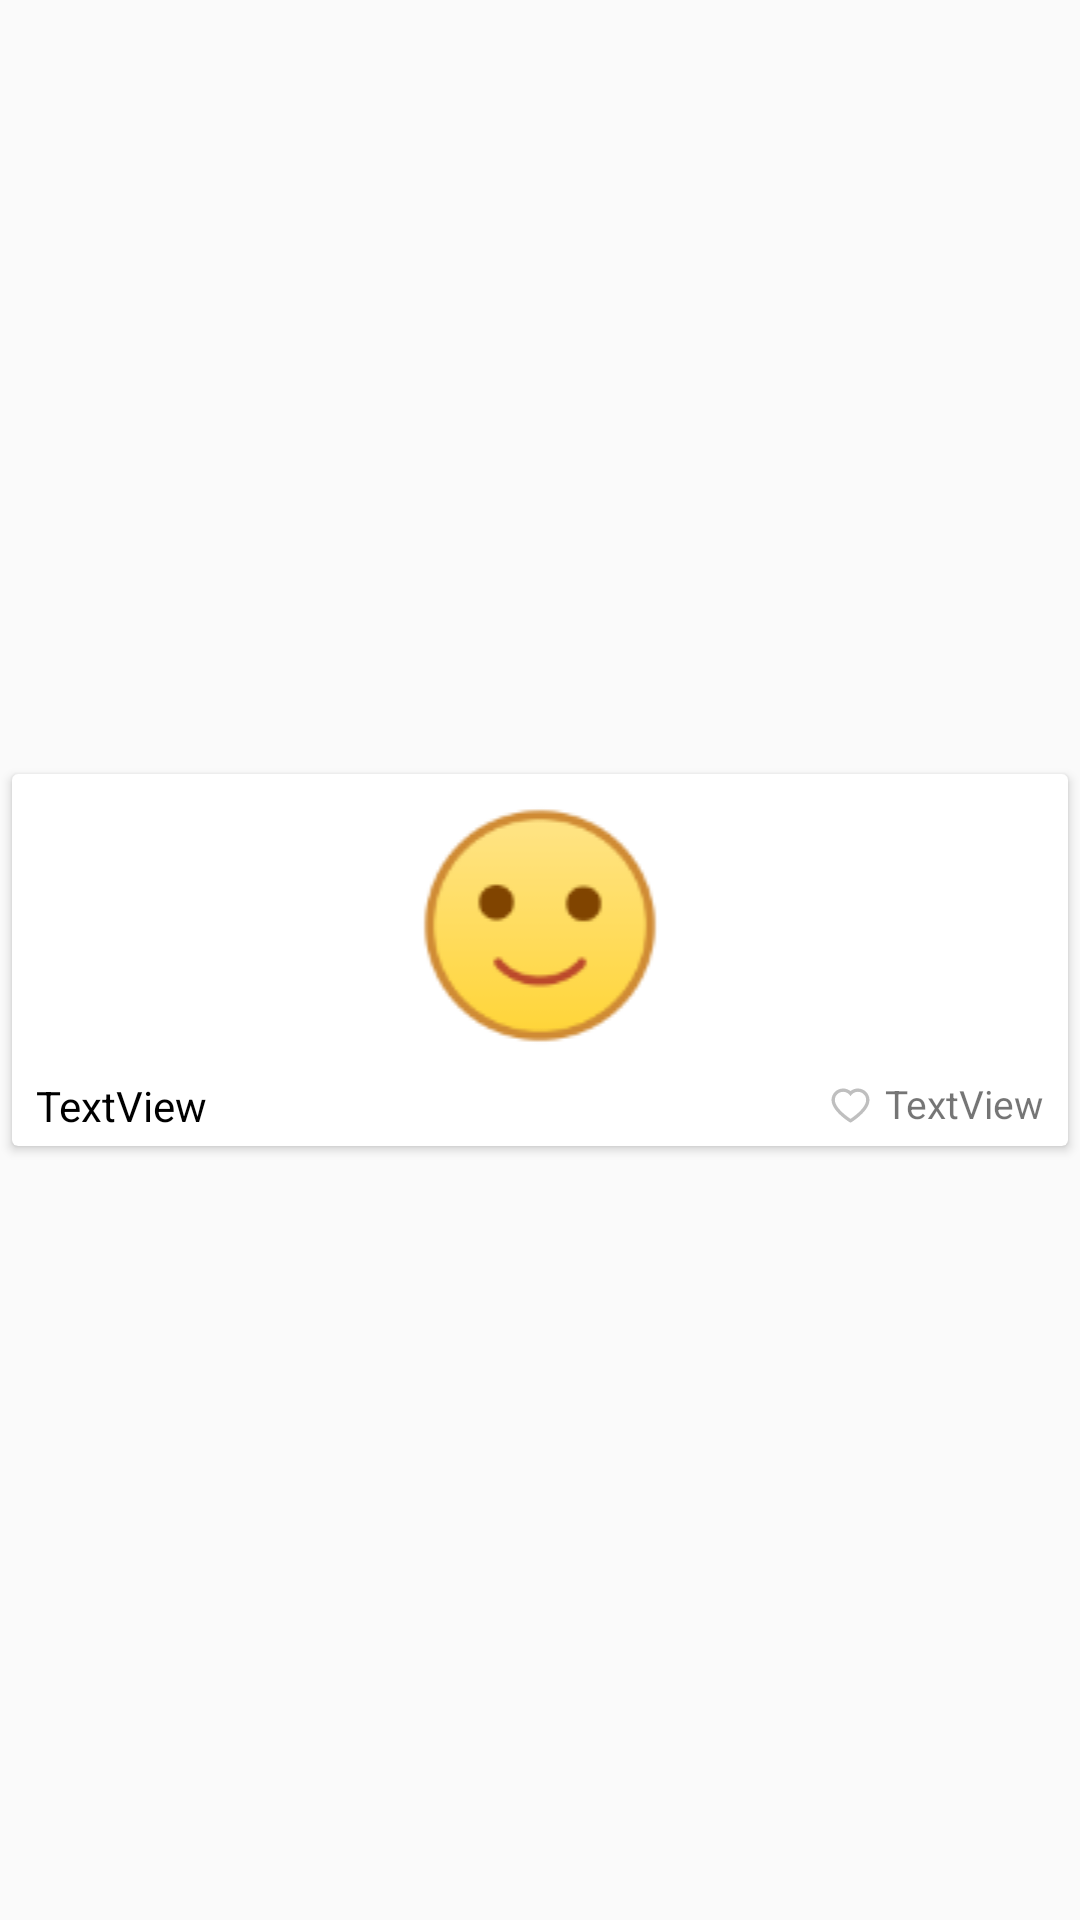

Locate icon controls on the screen. Image size 1080w x 1920h, boxes as (x1, y1, x2, y2).
emoji: (423, 809, 657, 1042)
heart: (831, 1088, 870, 1123)
